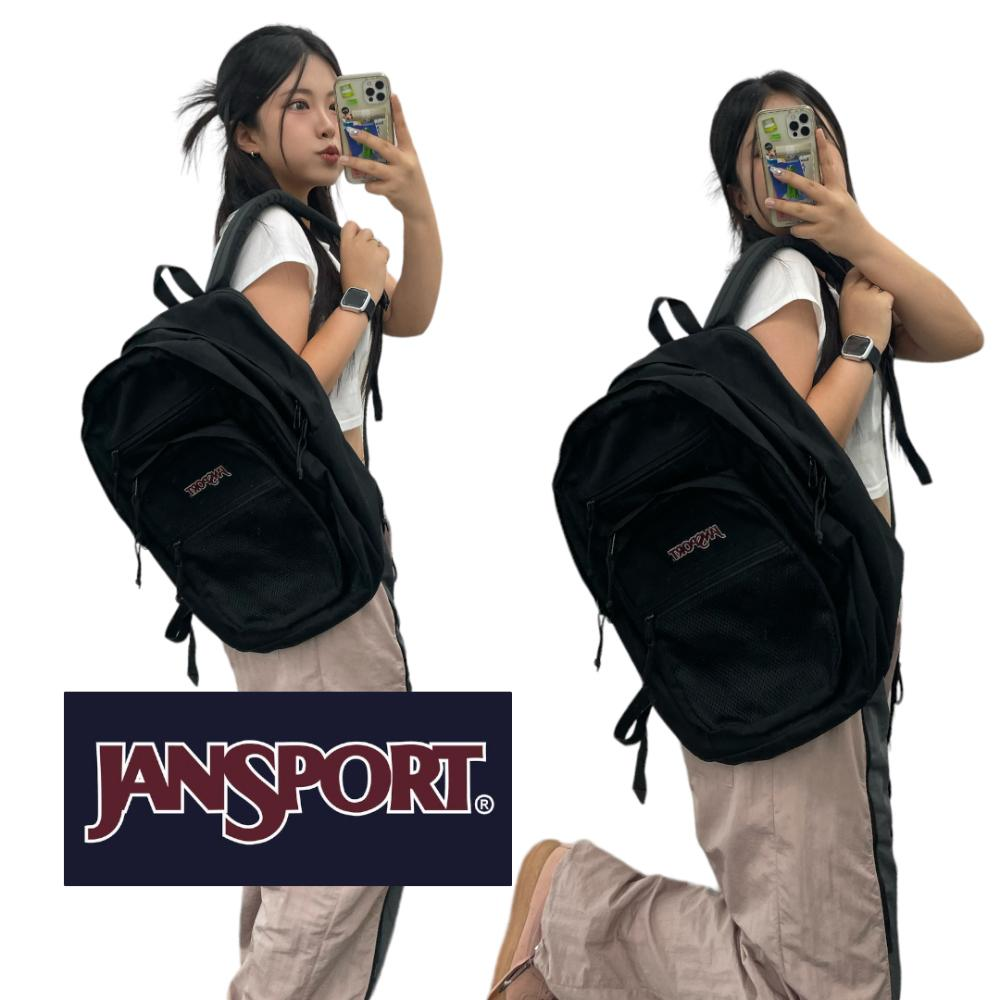backpack: (554, 274, 937, 745)
